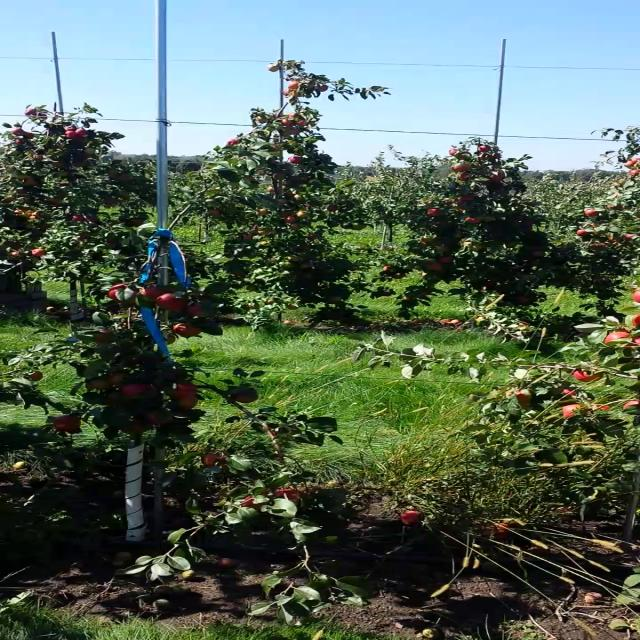apple: (506, 388, 535, 408), (156, 294, 188, 312), (138, 284, 167, 302), (55, 415, 82, 432), (188, 302, 214, 319), (106, 284, 130, 302), (171, 382, 197, 398), (572, 369, 604, 382), (604, 331, 632, 345), (204, 452, 228, 468), (122, 384, 154, 395), (274, 488, 300, 501), (561, 405, 585, 419), (94, 329, 116, 344), (242, 496, 266, 509), (142, 413, 172, 423), (109, 372, 129, 384), (173, 322, 192, 334), (236, 394, 258, 404), (180, 397, 198, 409), (87, 380, 107, 390), (623, 336, 639, 348), (623, 398, 639, 410), (127, 288, 138, 302), (28, 371, 42, 381), (561, 388, 578, 396), (131, 423, 144, 433), (188, 328, 202, 336), (632, 289, 639, 303), (596, 404, 612, 410), (634, 312, 639, 328)
